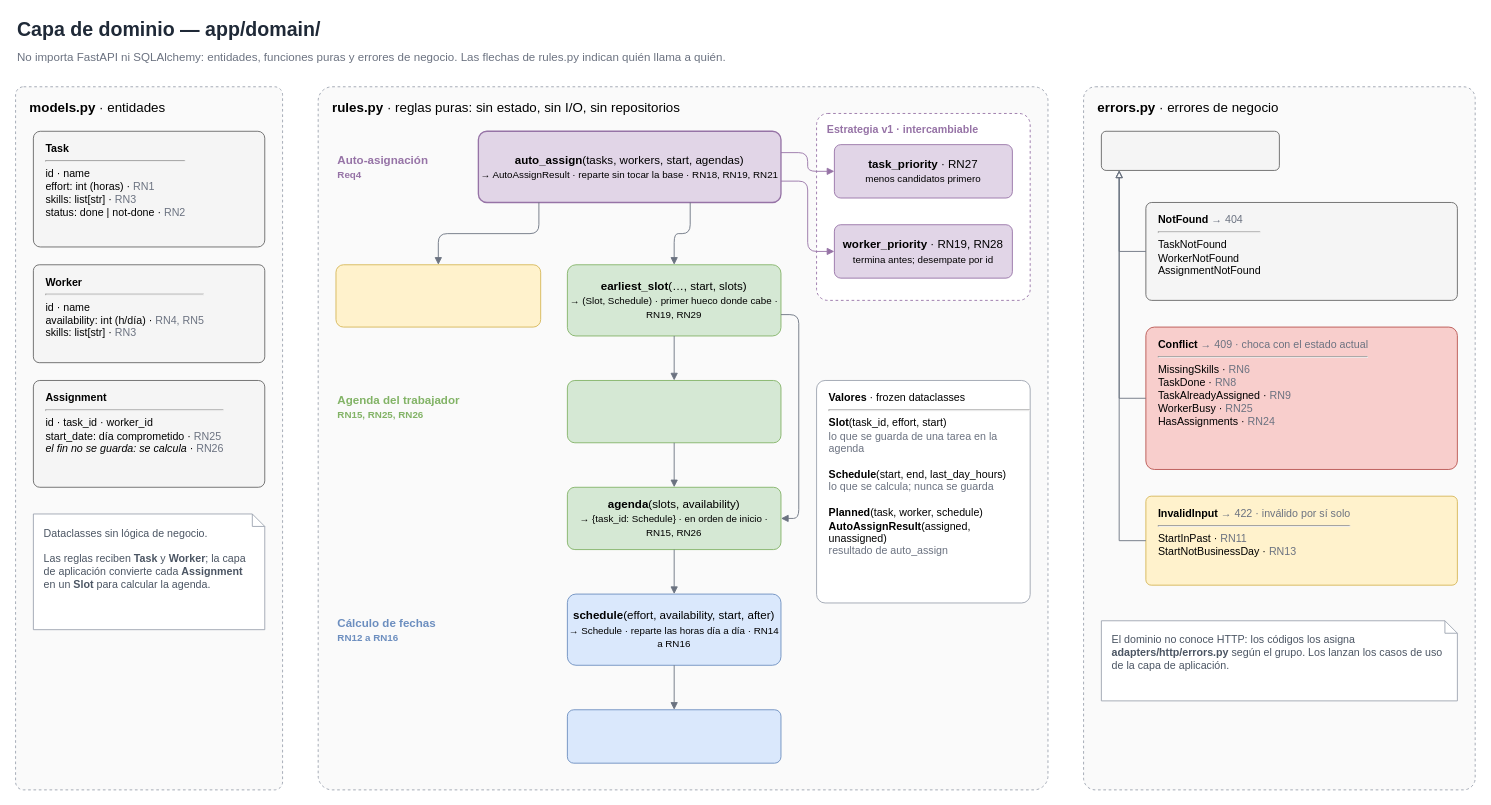
The diagram is 1491 pixels wide and 805 high, and some of its shapes have lost their labels. Here are the shapes that lost their labels. From the top down, the centre of each, then its label:
At [1189,150]: "DomainError".
At [438,295]: "can_take (task_skills, worker_skills) task ⊆ worker · Req3a, RN6, RN7".
At [673,411]: "late_starts (slots, availability) → tareas sin horas en su día de inicio · RN25".
At [673,736]: "business_day (day) fin de semana → lunes · RN12, RN13".
